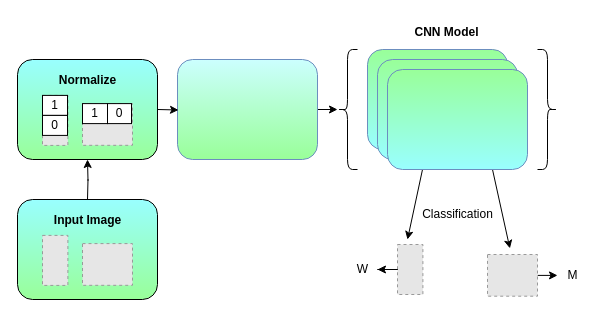
Some shapes in this 605 by 317 pixel diagram are drawn without their labels. Grey dashed boxes stand in for pictures. The shapes that lost their labels are listed below. From the top down, each one's centre as x and y in pixels, then its label:
(x=247, y=109): Data Preprocessing
(x=457, y=119): Feature Extraction
